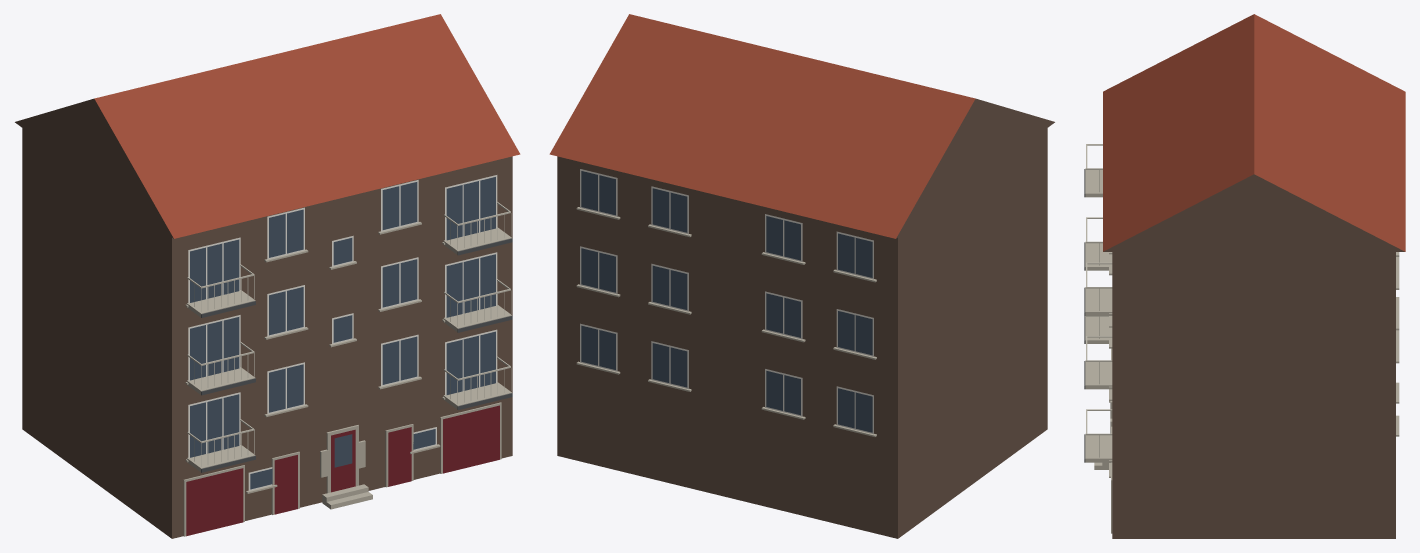
File: nw-portiek-hof-garage-4st__brown-red__4__gable__long__solid.glb
The picture shows the model from 3 angles, left to right: view 1: azimuth 30°, elevation 25°; view 2: azimuth 150°, elevation 25°; view 3: azimuth 270°, elevation 25°; orthographic projection. The views are drawn at different scales.
Parts seen in each view (by area): view 1: nw-portiek-hof-garage-4st__brown-red__4__gable__long__solid; view 2: nw-portiek-hof-garage-4st__brown-red__4__gable__long__solid; view 3: nw-portiek-hof-garage-4st__brown-red__4__gable__long__solid.
Part boxes in pixels (x1,y1,x2,y2): nw-portiek-hof-garage-4st__brown-red__4__gable__long__solid: [15, 14, 520, 538]; nw-portiek-hof-garage-4st__brown-red__4__gable__long__solid: [549, 14, 1054, 538]; nw-portiek-hof-garage-4st__brown-red__4__gable__long__solid: [1084, 14, 1405, 538].
Bounding box in the file's own units: 14.02 × 14.94 × 11.87.
